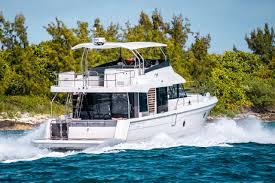Ship: (34, 45, 218, 151)
